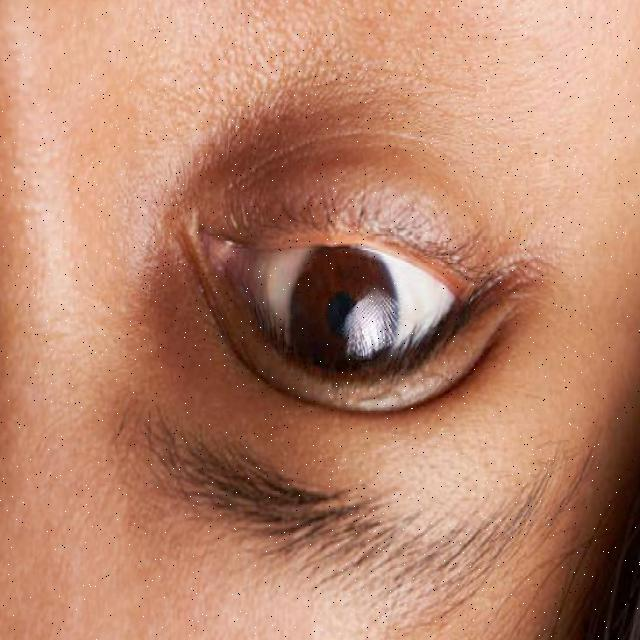puffy_eyes: (188, 100, 507, 270)
